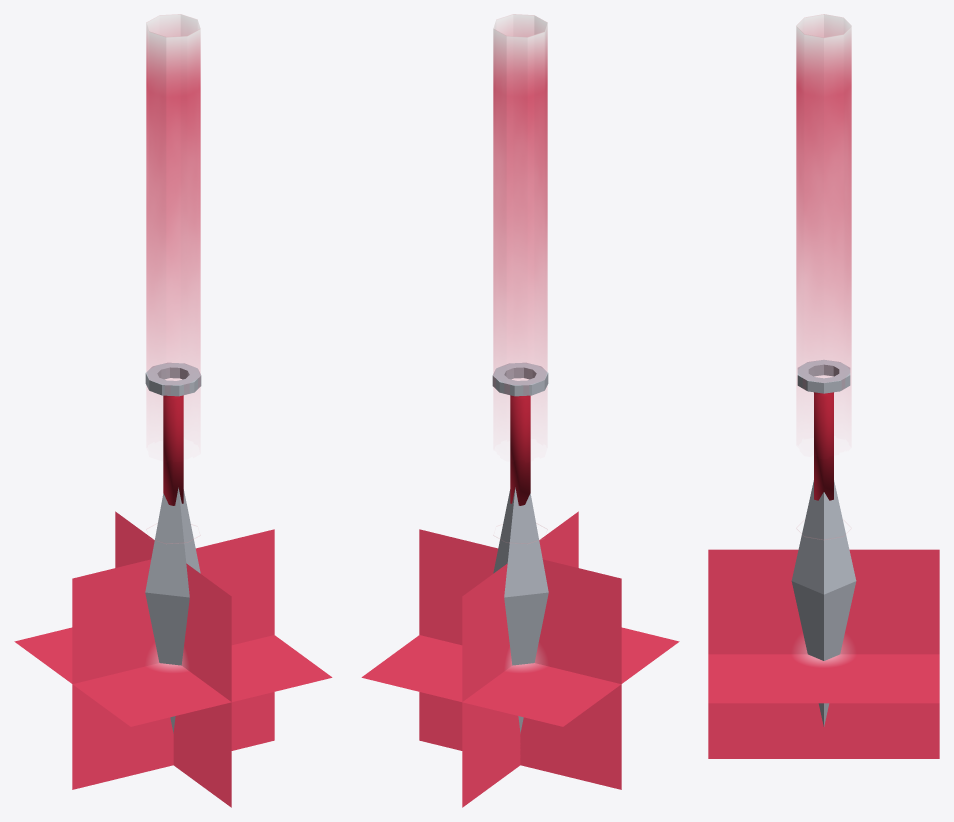
The model's file is fx_rain_kunai.glb.
3 renders of one model, left to right at view 1: azimuth 30°, elevation 25°; view 2: azimuth 150°, elevation 25°; view 3: azimuth 270°, elevation 25°, orthographic.
Parts seen in each view (by area): view 1: fx_kunai_glow, fx_kunai_trail, fx_steel, fx_wrap; view 2: fx_kunai_glow, fx_kunai_trail, fx_steel, fx_wrap; view 3: fx_kunai_glow, fx_kunai_trail, fx_steel, fx_wrap.
Part boxes in pixels (x1,y1,x2,y2): fx_kunai_glow: [14, 511, 332, 807]; fx_kunai_trail: [146, 14, 200, 543]; fx_steel: [145, 362, 201, 733]; fx_wrap: [163, 395, 183, 505]; fx_kunai_glow: [361, 511, 679, 807]; fx_kunai_trail: [493, 14, 547, 543]; fx_steel: [492, 362, 548, 733]; fx_wrap: [510, 395, 530, 505]; fx_kunai_glow: [708, 549, 939, 758]; fx_kunai_trail: [796, 14, 851, 539]; fx_steel: [791, 359, 856, 726]; fx_wrap: [814, 392, 833, 500].
Size of the model in its own units: 1 by 3.5 by 1.
Materials: 4 (2 with a texture image).
